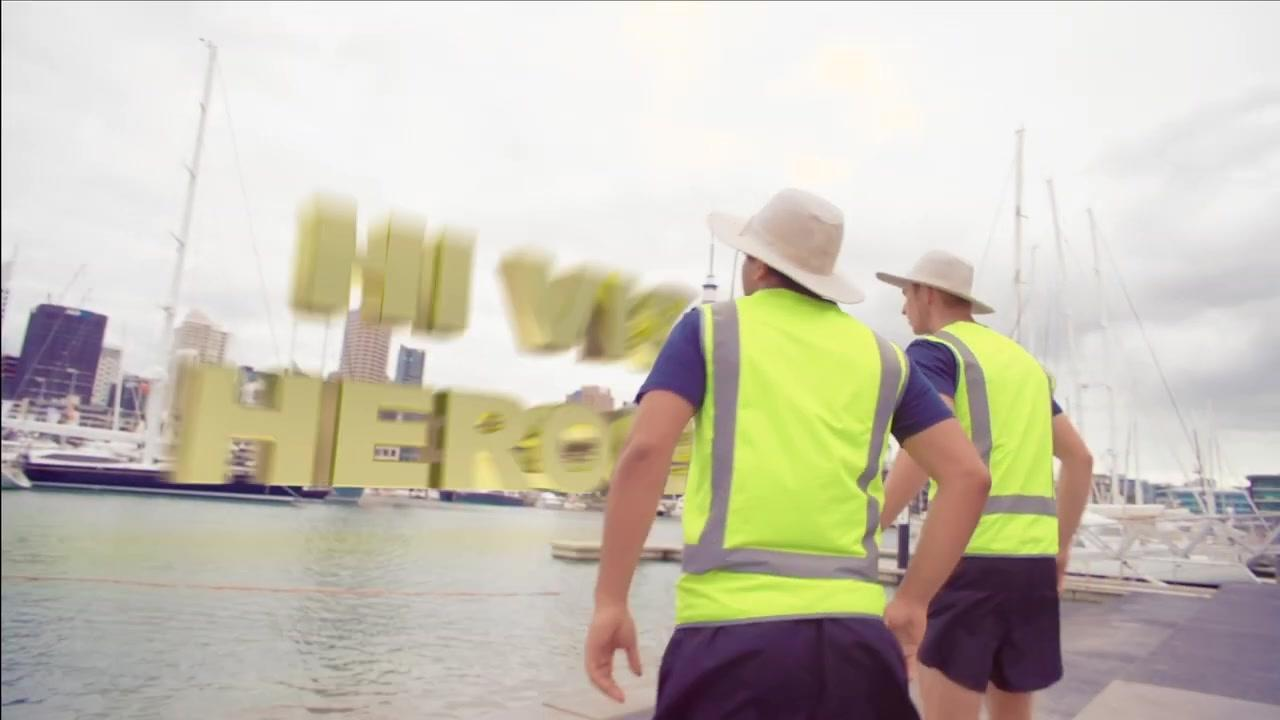vest: (666, 289, 913, 629), (908, 319, 1065, 559)
